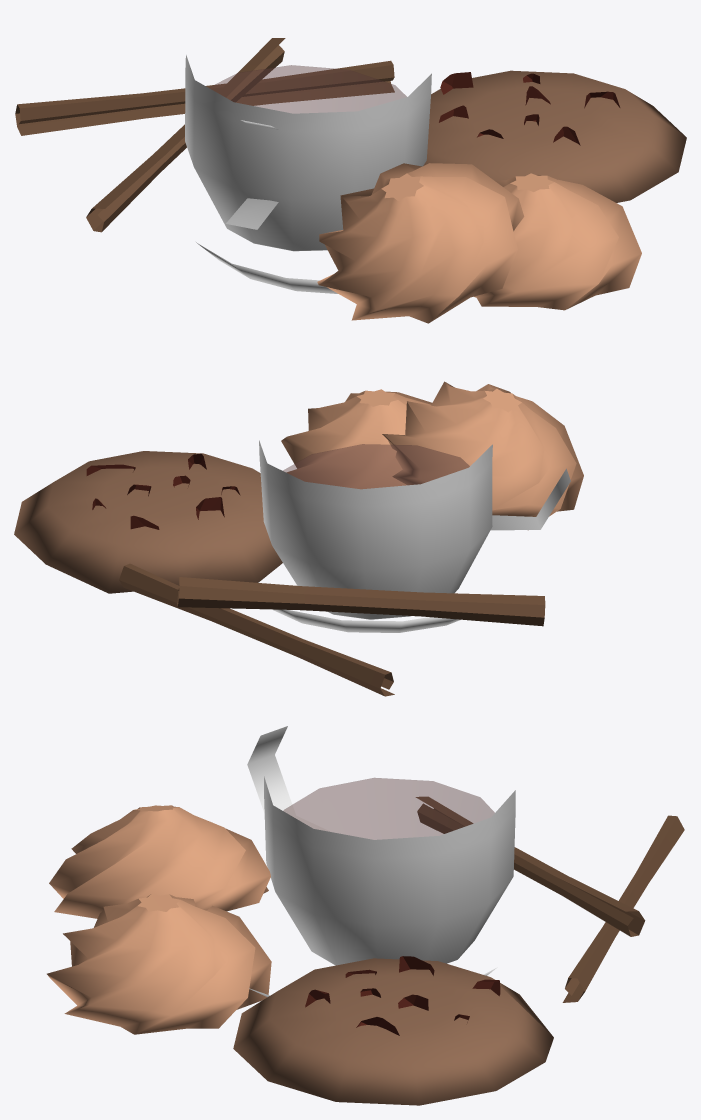
The model's file is coffeeMenu2.glb.
3 views of the same model, one above another, from view 1: azimuth 30°, elevation 25°; view 2: azimuth 150°, elevation 25°; view 3: azimuth 270°, elevation 25° (orthographic). The views are drawn at different scales.
Parts seen in each view (by area): view 1: Circle, Circle.004, Circle.003, Circle.006, Stick.001, Circle.002, Stick.002, Circle.005, Circle.001; view 2: Circle.003, Circle, Circle.004, Stick.002, Circle.006, Circle.002, Stick.001, Circle.005, Circle.001; view 3: Circle.003, Circle, Circle.006, Circle.004, Circle.002, Stick.002, Stick.001, Circle.001.
Part boxes in pixels (left/top/right/bottom): Circle: left=185, top=55, right=431, bottom=251; Circle.004: left=317, top=163, right=524, bottom=323; Circle.003: left=423, top=70, right=686, bottom=202; Circle.006: left=474, top=173, right=641, bottom=310; Stick.001: left=15, top=60, right=394, bottom=135; Circle.002: left=209, top=65, right=406, bottom=113; Stick.002: left=86, top=38, right=285, bottom=232; Circle.005: left=196, top=242, right=337, bottom=293; Circle.001: left=226, top=120, right=278, bottom=229; Circle.003: left=14, top=451, right=282, bottom=593; Circle: left=259, top=440, right=492, bottom=619; Circle.004: left=382, top=381, right=583, bottom=530; Stick.002: left=177, top=577, right=545, bottom=626; Circle.006: left=281, top=389, right=431, bottom=489; Circle.002: left=283, top=444, right=469, bottom=488; Stick.001: left=119, top=563, right=394, bottom=696; Circle.005: left=272, top=609, right=460, bottom=632; Circle.001: left=491, top=468, right=570, bottom=530; Circle.003: left=233, top=958, right=553, bottom=1105; Circle: left=264, top=776, right=515, bottom=965; Circle.006: left=47, top=894, right=271, bottom=1034; Circle.004: left=49, top=805, right=270, bottom=918; Circle.002: left=283, top=778, right=494, bottom=839; Stick.002: left=416, top=796, right=645, bottom=936; Stick.001: left=562, top=815, right=684, bottom=1002; Circle.001: left=247, top=726, right=330, bottom=831.
Bounding box in the file's own units: 8.77 × 2.23 × 7.96.
